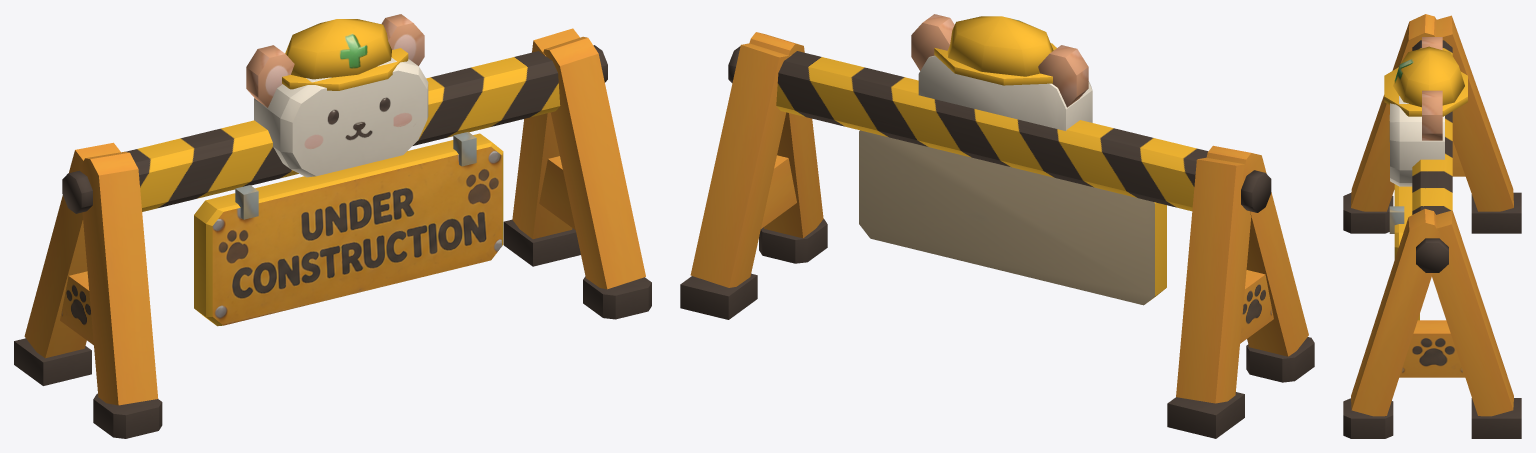
The model's file is Cute_Construction_Barrier.glb.
3 renders of one model, left to right at view 1: azimuth 30°, elevation 25°; view 2: azimuth 150°, elevation 25°; view 3: azimuth 270°, elevation 25°, orthographic. The views are drawn at different scales.
Visible parts, largest first — view 1: Cute_Construction_Barrier; view 2: Cute_Construction_Barrier; view 3: Cute_Construction_Barrier.
Boxes of the visible parts, x1,y1,x2,y2 form: Cute_Construction_Barrier: (14,14,651,438); Cute_Construction_Barrier: (680,14,1314,438); Cute_Construction_Barrier: (1343,14,1521,438).
Size of the model in its own units: 2.37 by 1.35 by 0.792.
Materials: 1 (1 with a texture image).
